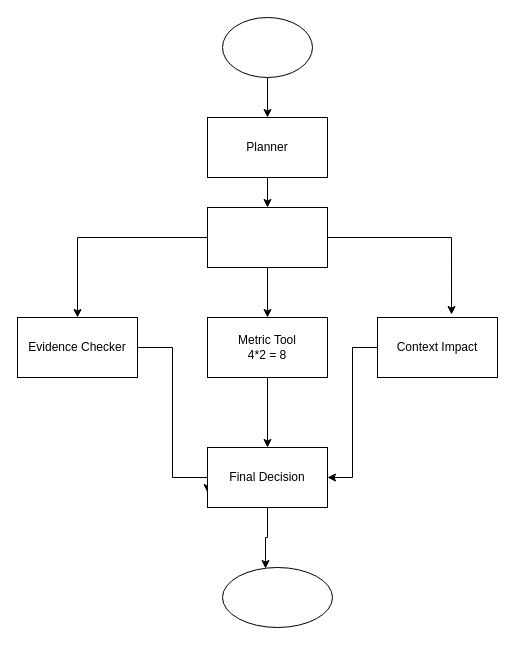
This 515x645 diagram has some shape labels left out. The shapes that lost their labels are listed below. From the top down, each one's box as (x1, y1, x2, y2) in pixels, then its label:
(222, 16, 312, 78): Start
(206, 206, 328, 268): Claim Extractor
(222, 566, 332, 628): End
